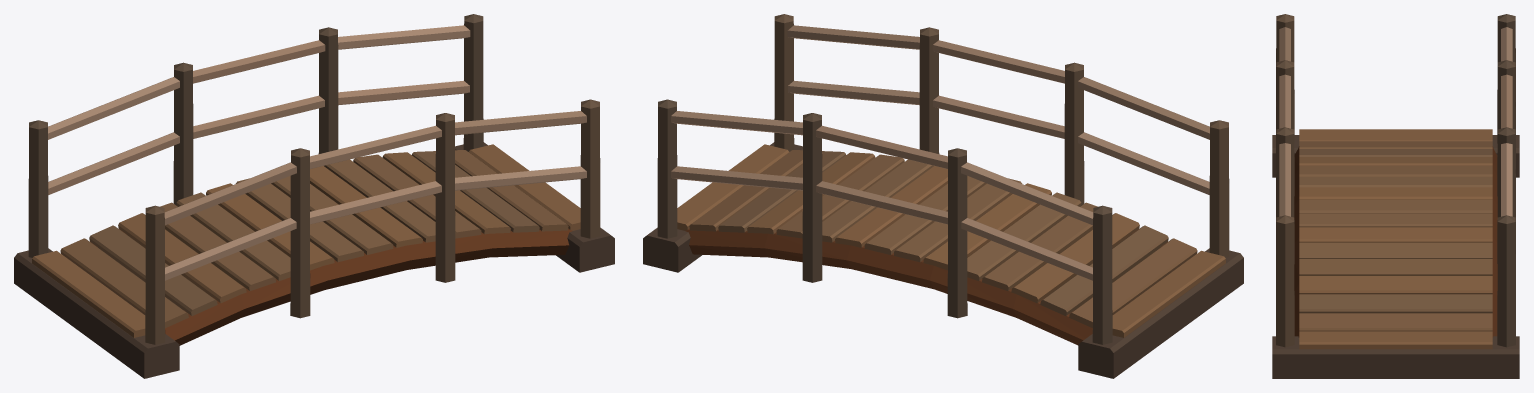
File: creek-footbridge-d35cf7.glb
3 views of the same model, side by side, from view 1: azimuth 30°, elevation 25°; view 2: azimuth 150°, elevation 25°; view 3: azimuth 270°, elevation 25° (orthographic). The views are drawn at different scales.
Visible parts, largest first — view 1: bridge; view 2: bridge; view 3: bridge.
Boxes of the visible parts, bbox=[...] form: bridge: bbox=[14, 14, 614, 378]; bridge: bbox=[643, 14, 1243, 378]; bridge: bbox=[1272, 14, 1519, 378].
Bounding box in the file's own units: 4 × 1.51 × 1.92.
